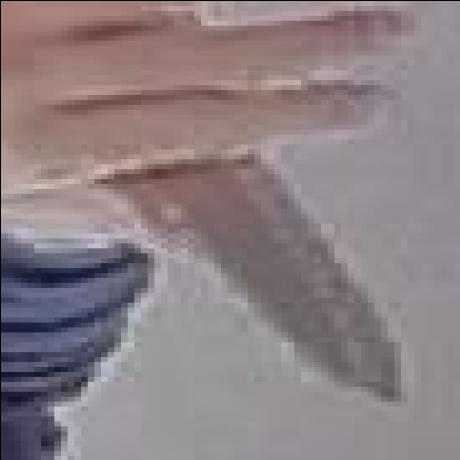weapon: (147, 169, 417, 418)
